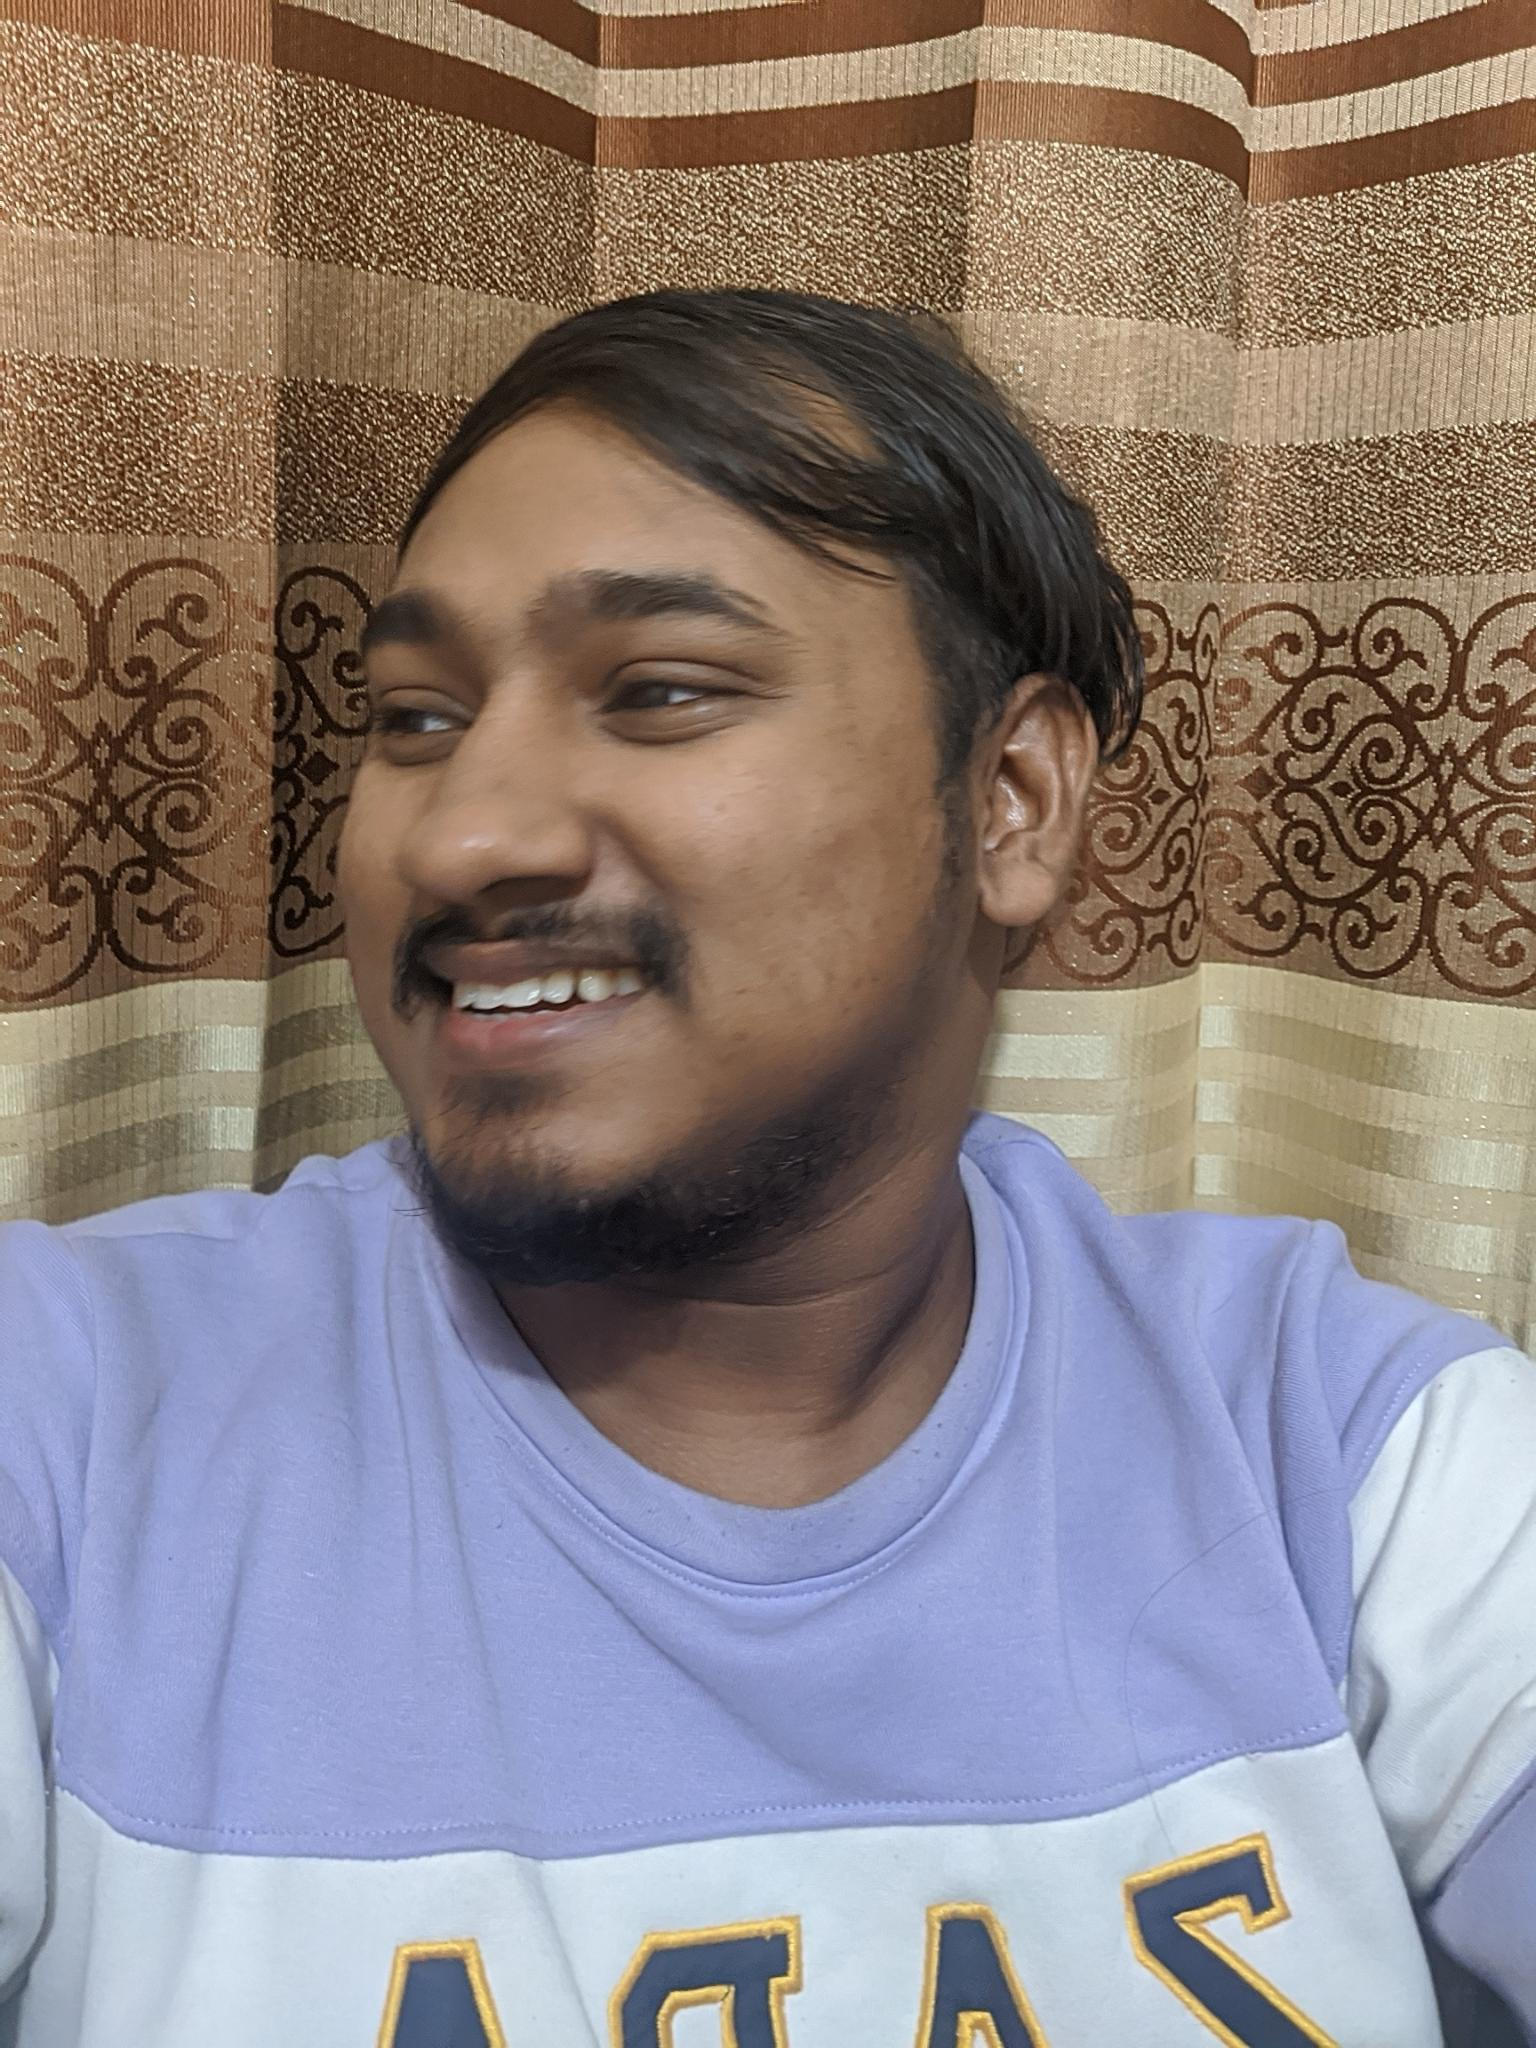Happy: (308, 518, 907, 1219)
